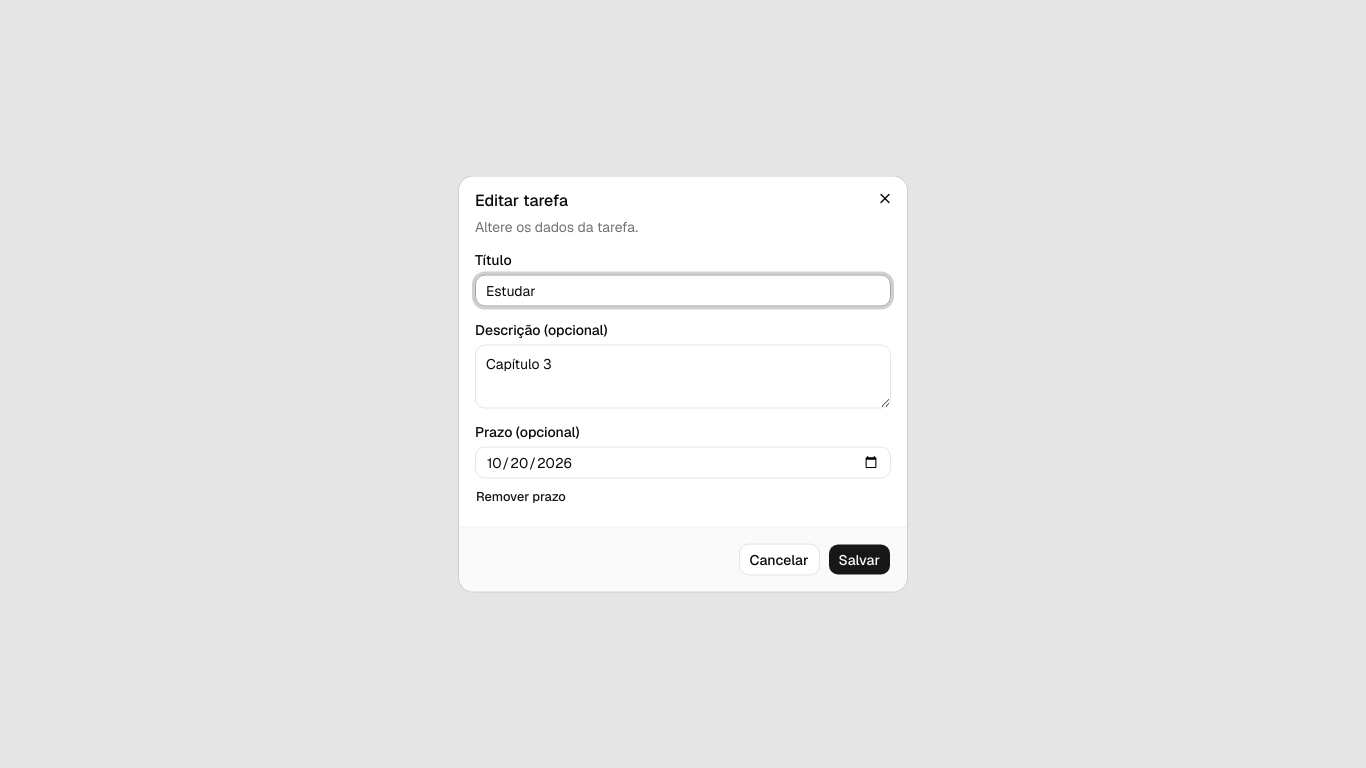
Test: TaskFormDialog editing › falls back to a generic message when the network fails
Click the button "Salvar" at (859, 560), box [828, 544, 891, 576]
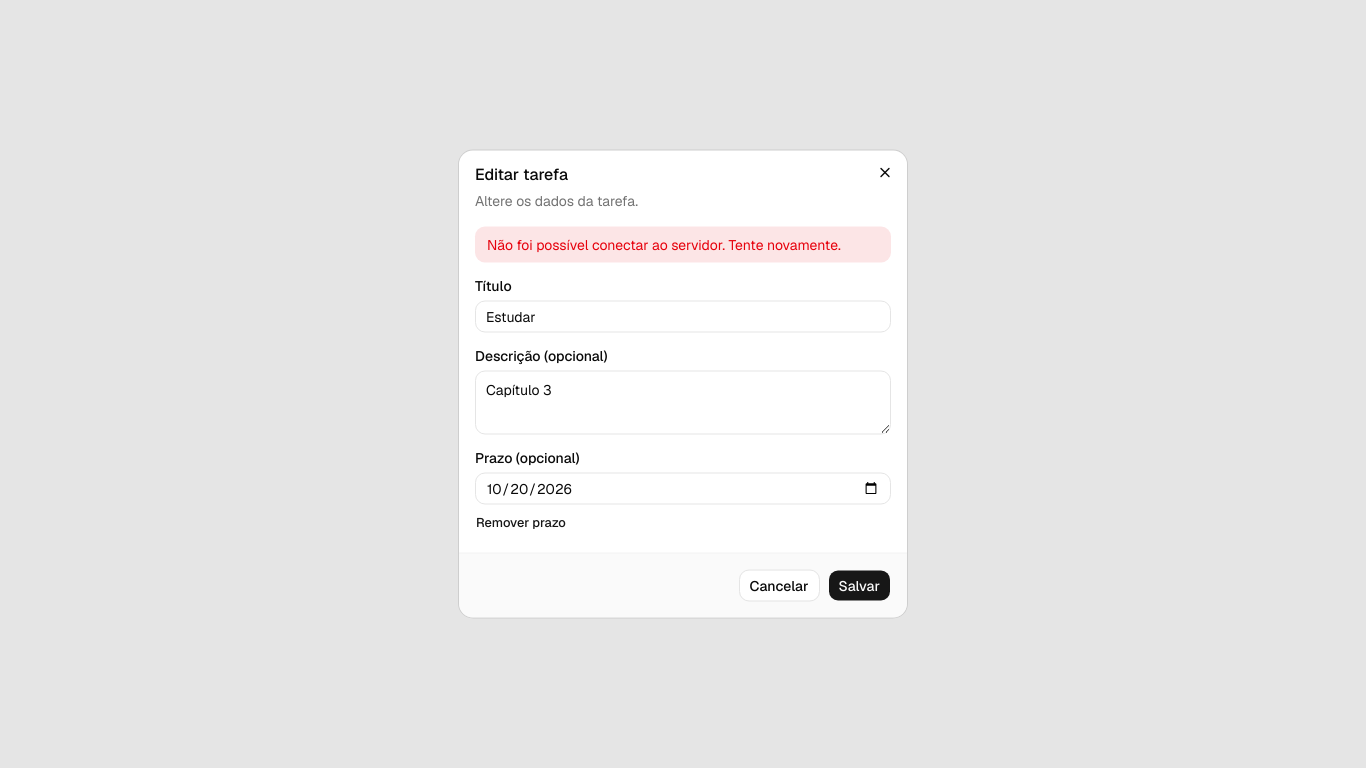
Expected: the message shows "Não foi possível conectar ao servidor", [487, 236, 841, 254]
